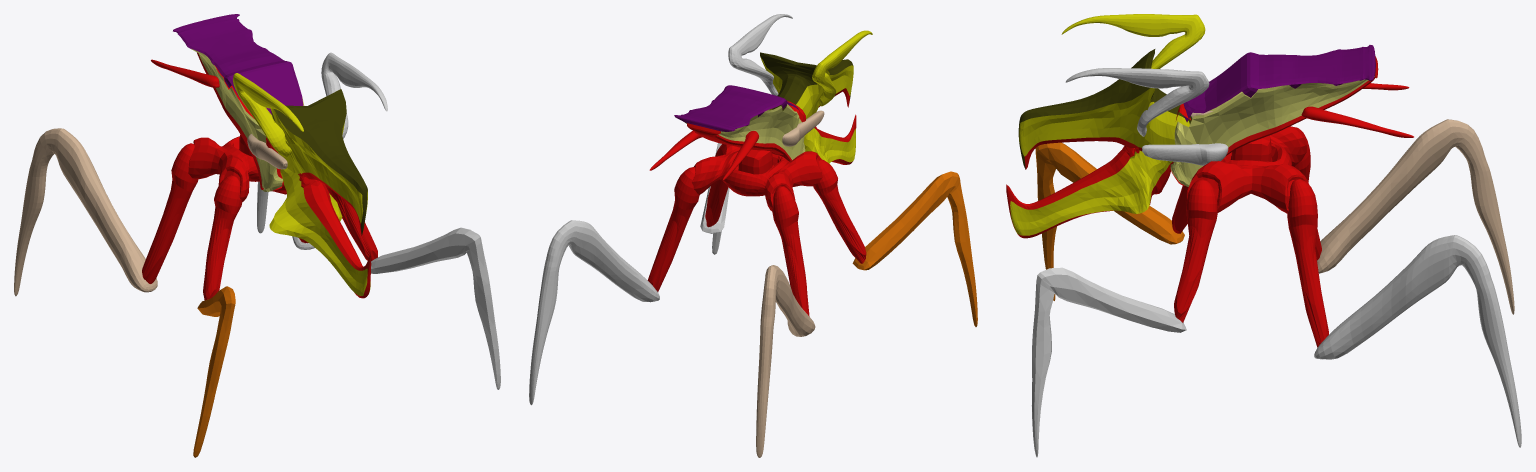
File: aracnido_000023.obj
The picture shows the model from 3 angles, left to right: view 1: azimuth 30°, elevation 25°; view 2: azimuth 150°, elevation 25°; view 3: azimuth 270°, elevation 25°; orthographic projection. The views are drawn at different scales.
Parts seen in each view (by area): view 1: ARAK-BODY-; view 2: ARAK-BODY-; view 3: ARAK-BODY-.
Boxes of the visible parts, <box> form: ARAK-BODY-: <box>14,14,500,457</box>; ARAK-BODY-: <box>529,14,977,457</box>; ARAK-BODY-: <box>1006,14,1521,457</box>.
Bounding box in the file's own units: 2.64 × 2.64 × 3.58.
